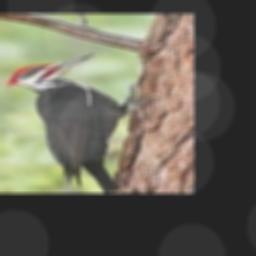Woodpecker: (6, 52, 155, 192)
